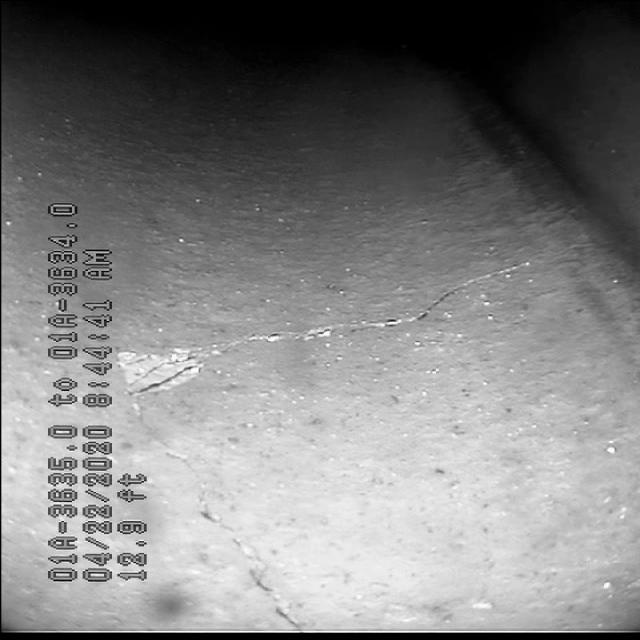Crack: (178, 263, 522, 375), (163, 458, 311, 611)
